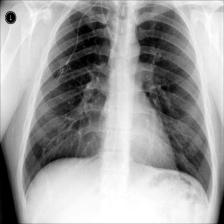normal: (18, 0, 216, 206)
